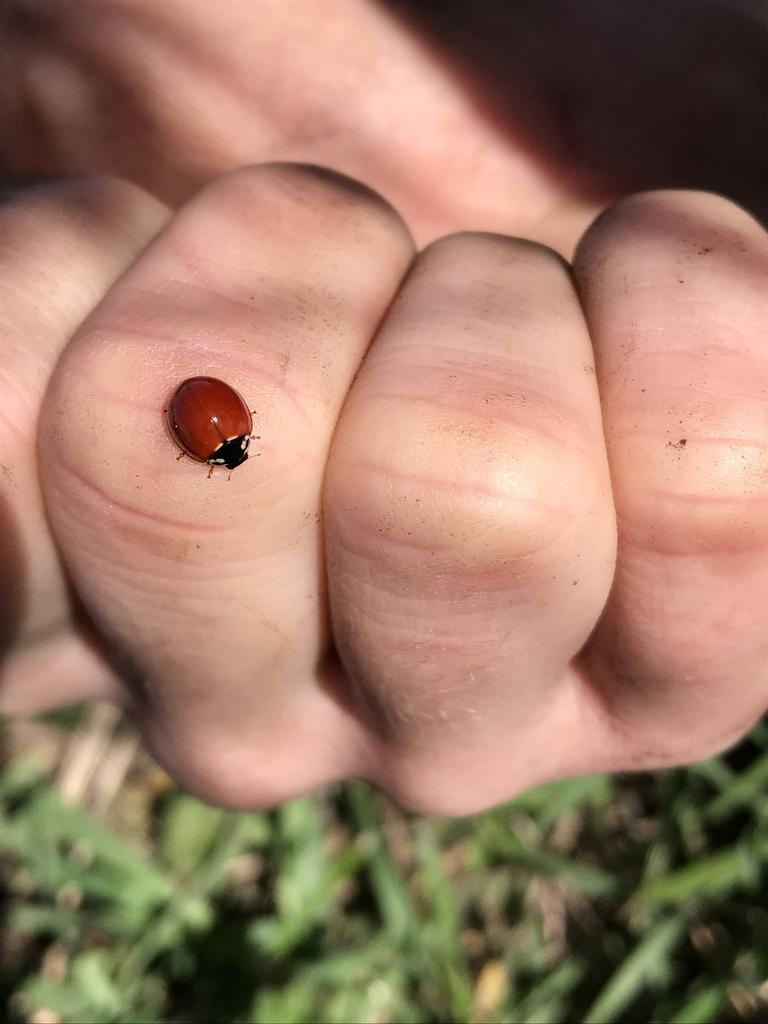ladybug: (166, 371, 266, 484)
